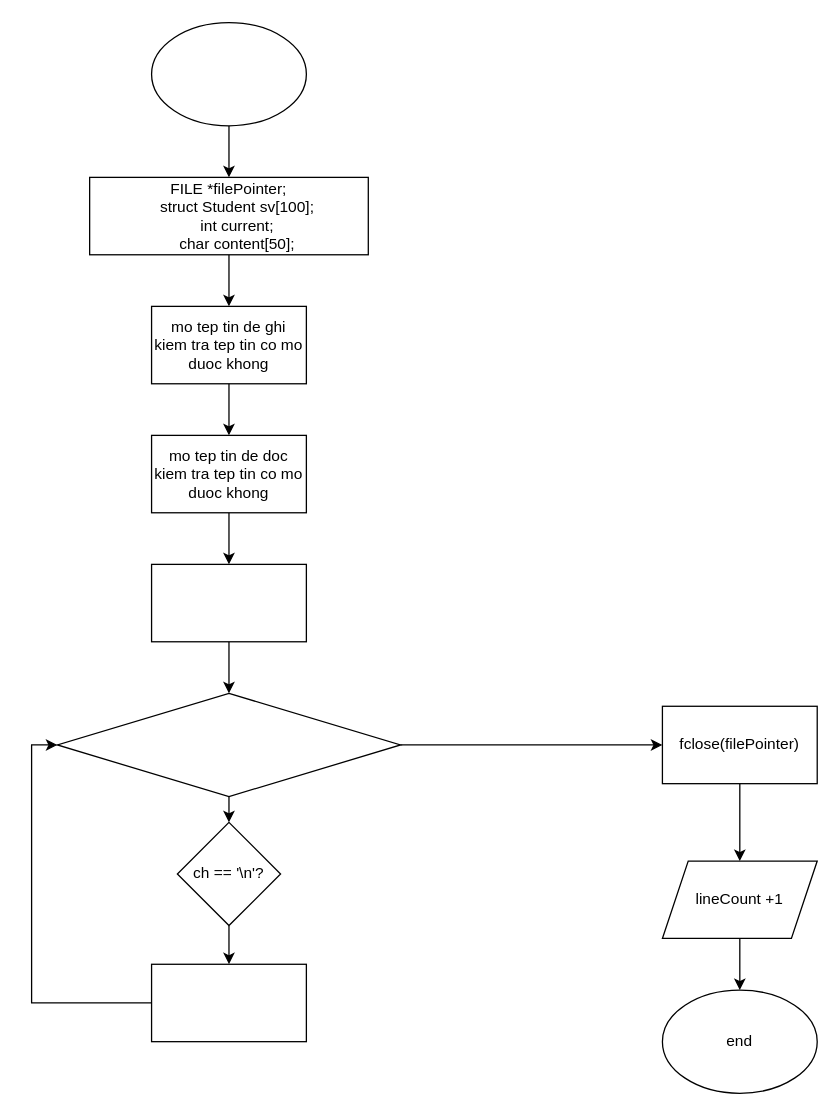
Some shapes in this 840 by 1116 pixel diagram are drawn without their labels. The centre of each missing label's shape, as x and y in pixels:
(ch = fgetc(filePointer)) != EOF?: pixel 228 744
int lineCount = 1; char x;: pixel 228 602
lineCount++: pixel 228 1002
start: pixel 228 73
